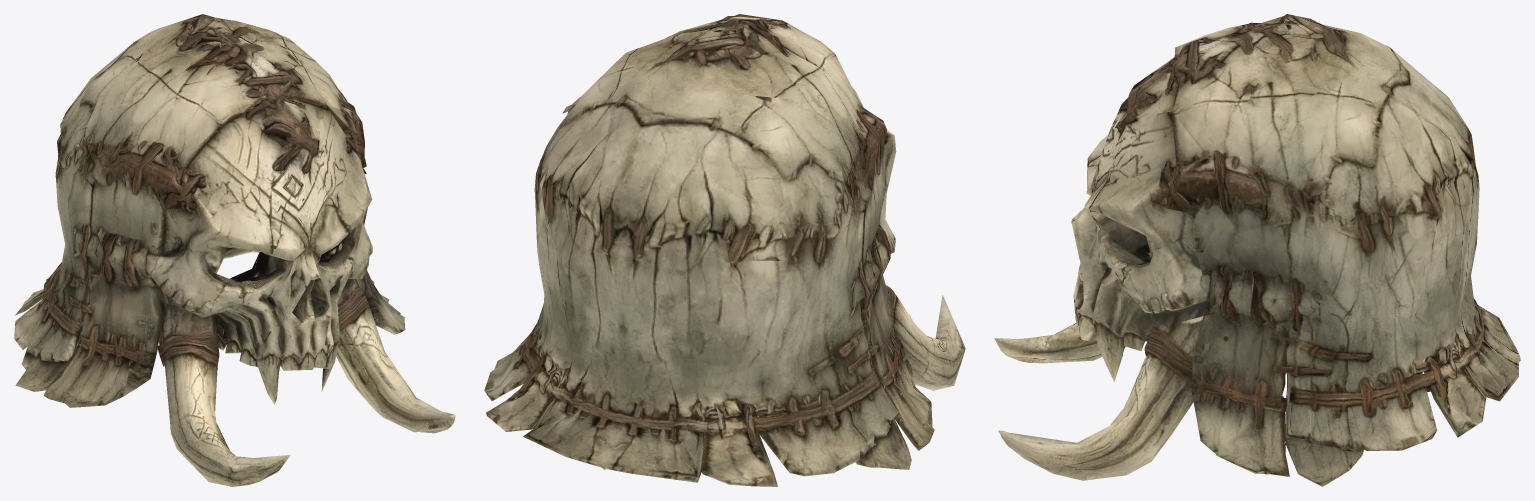
The model's file is Bone_Helm_Armor.glb.
3 views of the same model, side by side, from view 1: azimuth 30°, elevation 25°; view 2: azimuth 150°, elevation 25°; view 3: azimuth 270°, elevation 25° (orthographic). The views are drawn at different scales.
Bounding box in the file's own units: 1.68 × 1.58 × 1.89.
Materials: 1 (1 with a texture image).
